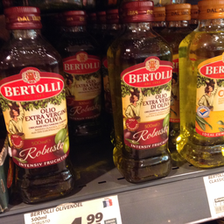oil: (2, 6, 76, 206), (107, 2, 175, 183), (174, 1, 224, 169), (59, 6, 102, 138)
